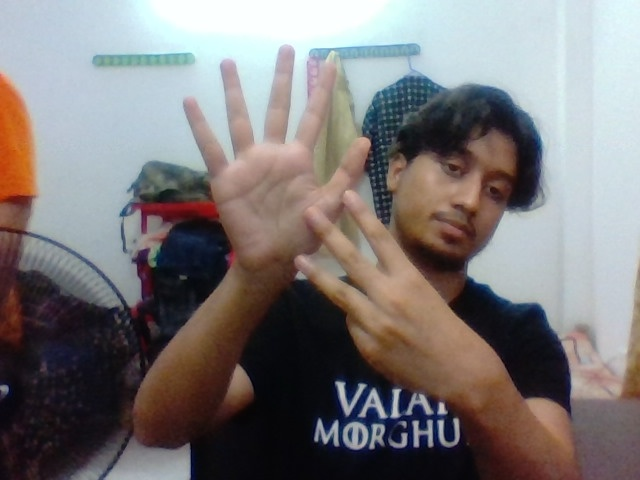M: (150, 37, 424, 340)
